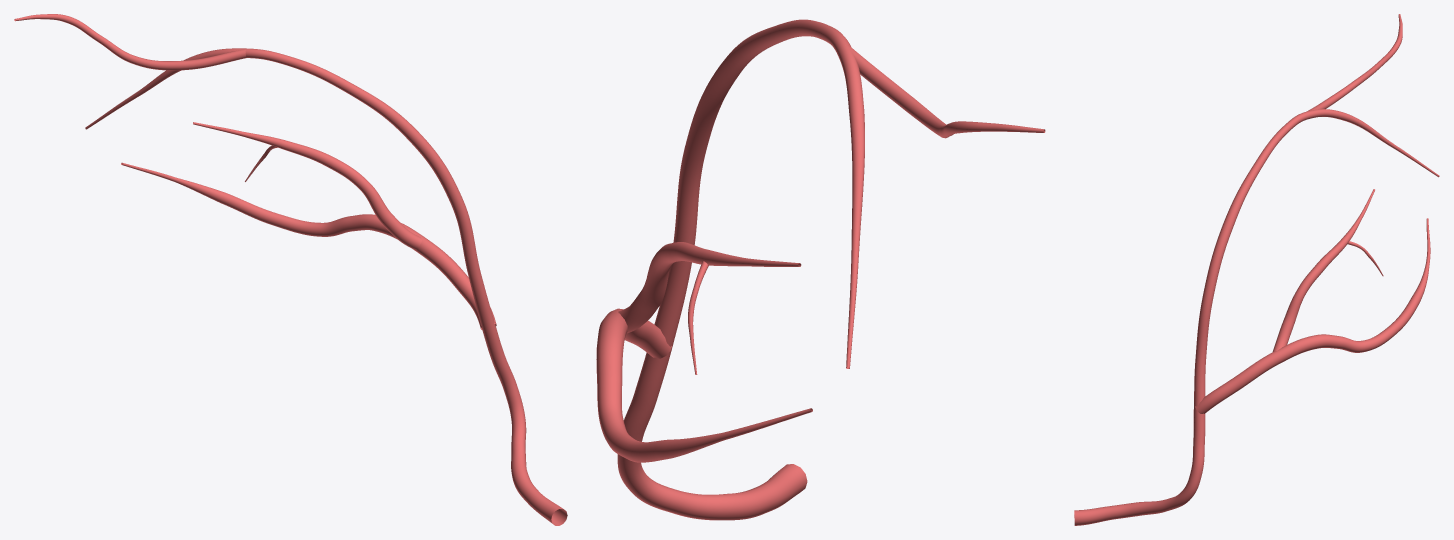
File: Posterior_parietal_artery.l_BezierCurve.072.glb
3 views of the same model, side by side, from view 1: azimuth 30°, elevation 25°; view 2: azimuth 150°, elevation 25°; view 3: azimuth 270°, elevation 25° (orthographic). The views are drawn at different scales.
Parts seen in each view (by area): view 1: Posterior_parietal_artery.l_BezierCurve.072; view 2: Posterior_parietal_artery.l_BezierCurve.072; view 3: Posterior_parietal_artery.l_BezierCurve.072.
Part boxes in pixels (bbox=[...]): Posterior_parietal_artery.l_BezierCurve.072: bbox=[14, 14, 567, 525]; Posterior_parietal_artery.l_BezierCurve.072: bbox=[596, 19, 1045, 520]; Posterior_parietal_artery.l_BezierCurve.072: bbox=[1074, 14, 1439, 525].
Size of the model in its own units: 0.037 by 0.0415 by 0.0371.
